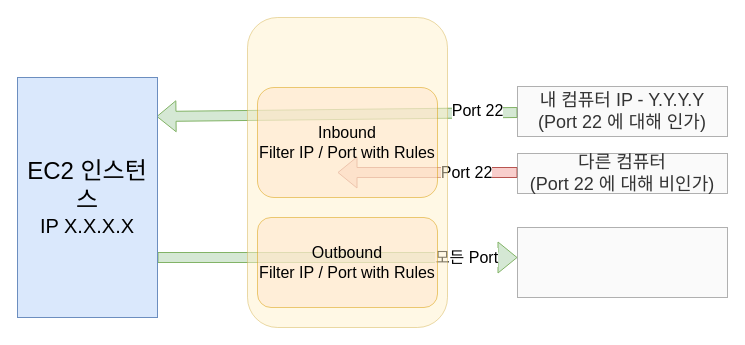
The diagram is 745 pixels wide and 345 high, and some of its shapes have lost their labels. The box of each missing label's shape, as (x1, y1, x2, y2) in pixels:
Security Group: (246, 16, 448, 328)
WWW 모든 IP, 모든 Port: (516, 226, 728, 298)
